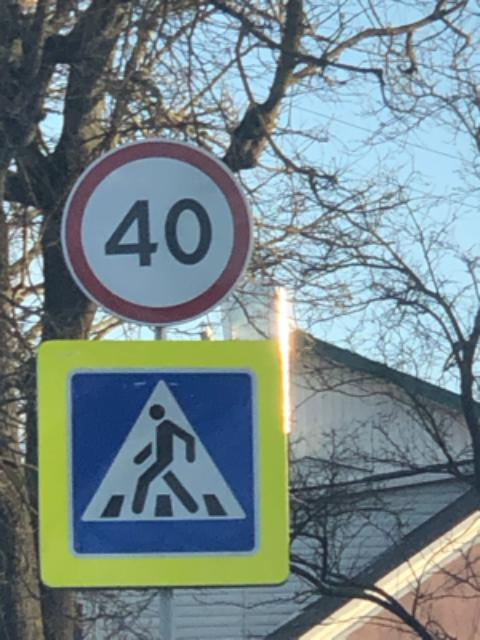crosswalk-sign: (35, 337, 292, 589)
